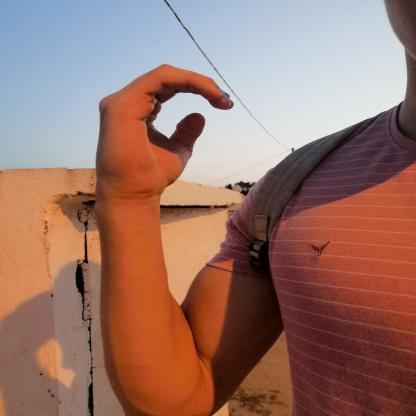JEEM: (76, 54, 247, 214)
